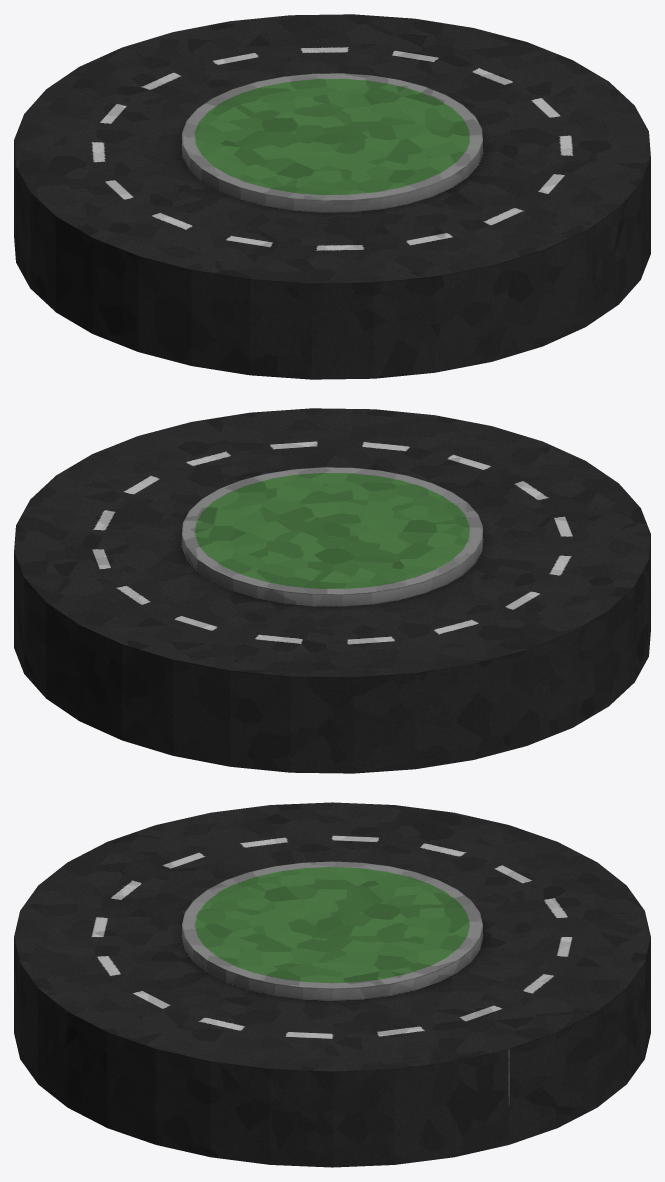
The picture shows the model from 3 angles, top to bottom: view 1: azimuth 30°, elevation 25°; view 2: azimuth 150°, elevation 25°; view 3: azimuth 270°, elevation 25°; orthographic projection.
Visible parts, largest first — view 1: Cylinder.002_Baked; view 2: Cylinder.002_Baked; view 3: Cylinder.002_Baked.
Boxes of the visible parts, bbox=[...] form: Cylinder.002_Baked: bbox=[14, 14, 650, 379]; Cylinder.002_Baked: bbox=[14, 408, 650, 773]; Cylinder.002_Baked: bbox=[14, 802, 650, 1167].
Bounding box in the file's own units: 4971 × 929 × 4971.
Materials: 1 (1 with a texture image).
